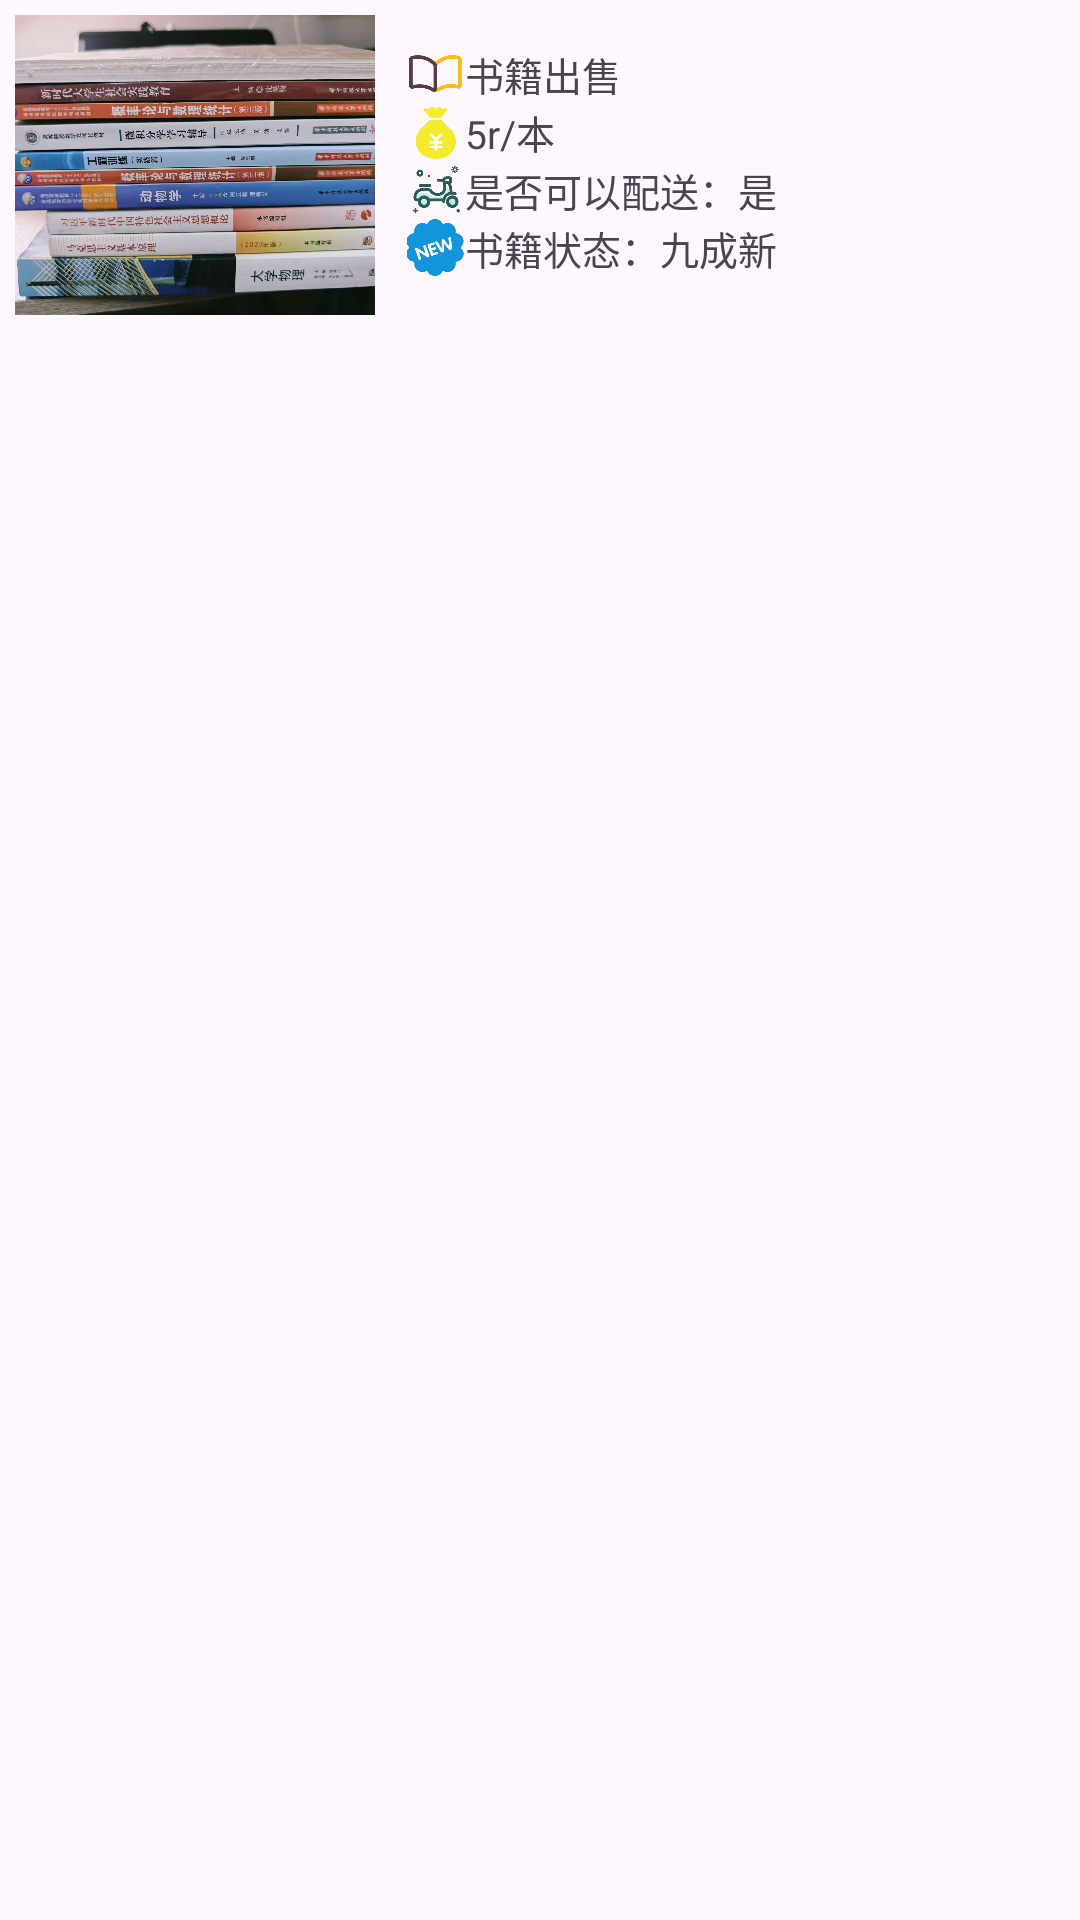

Point at icon controls on the screen. Image size 1080w x 1920h, points as [x,y].
delivery: [436,190]
money: [436,133]
